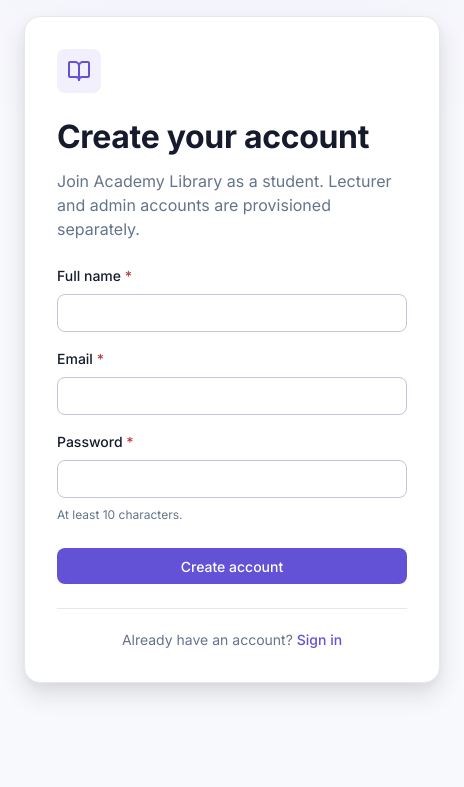
Test: RegisterPage › shows a conflict message for a duplicate email and stays on the page
Type "Sam Student" into the field labelled "Full name *" at (232, 313), box [70,295,394,331]
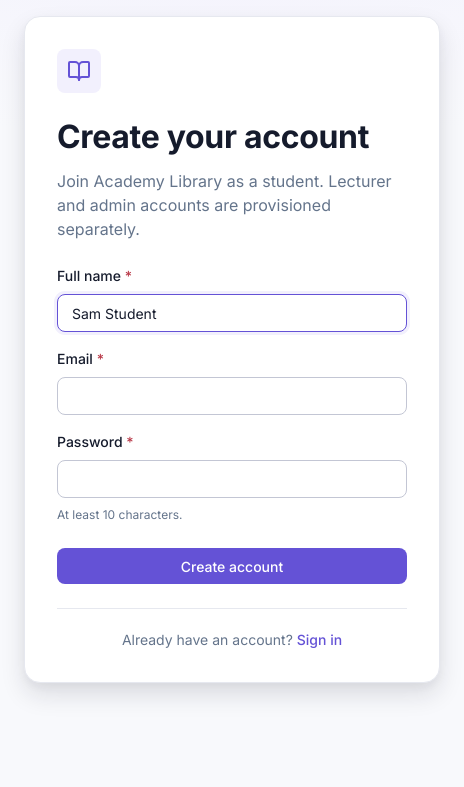
Type "sam.student@example.com" into the field labelled "Email *" at (232, 396), box [70,378,394,414]
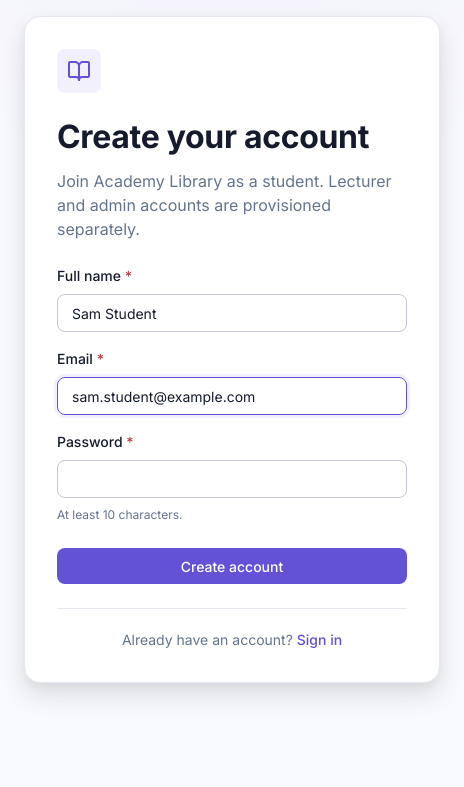
Type "a-long-enough-password" into the password field labelled "Password *" at (232, 479), box [70,461,394,497]
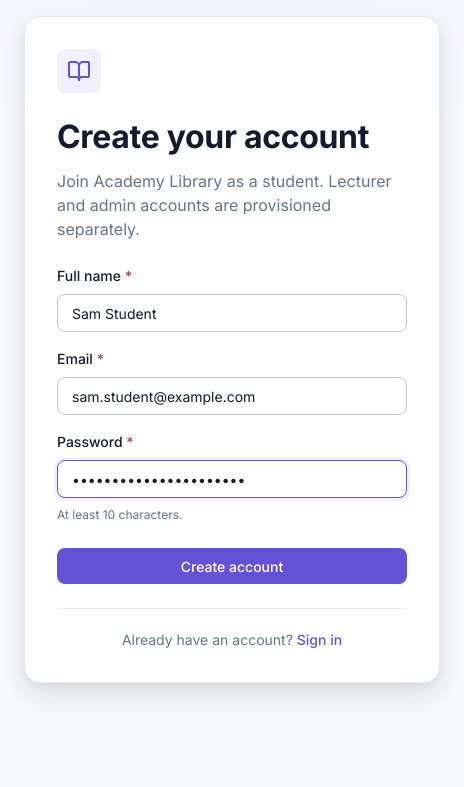
Click the button "Create account" at (232, 566), box [57,548,407,584]
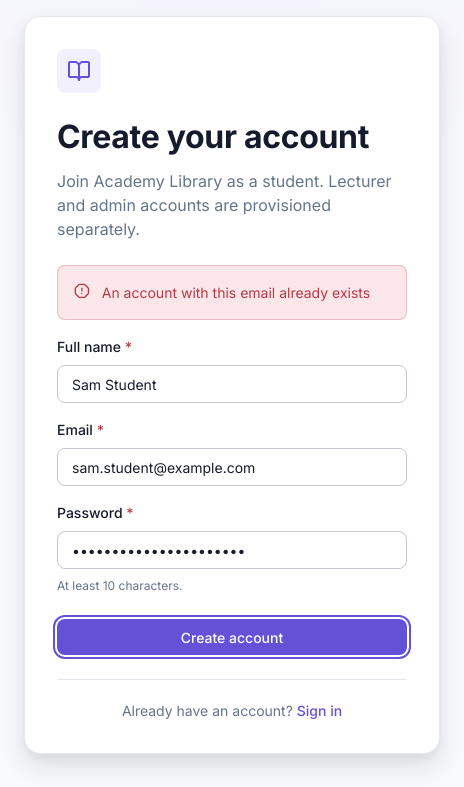
Expected: the button "Create account" is shown, [57,619,407,655]
Now the message shows "already exists", box [102,284,370,301]
